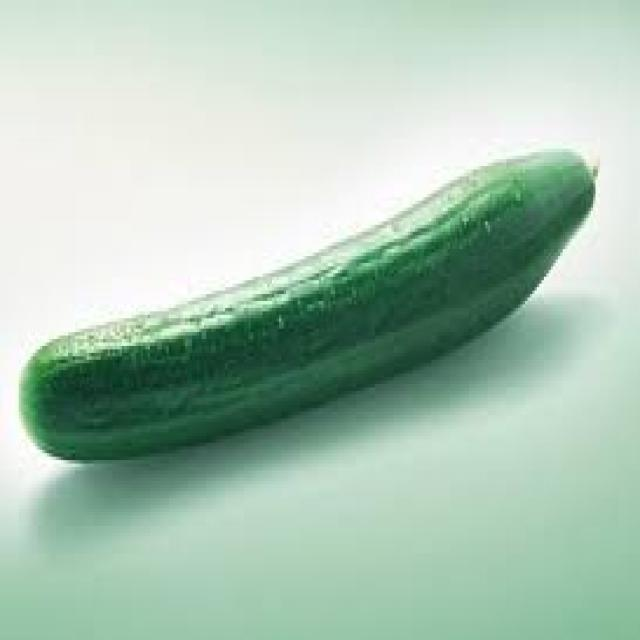organic waste: (16, 145, 591, 457)
